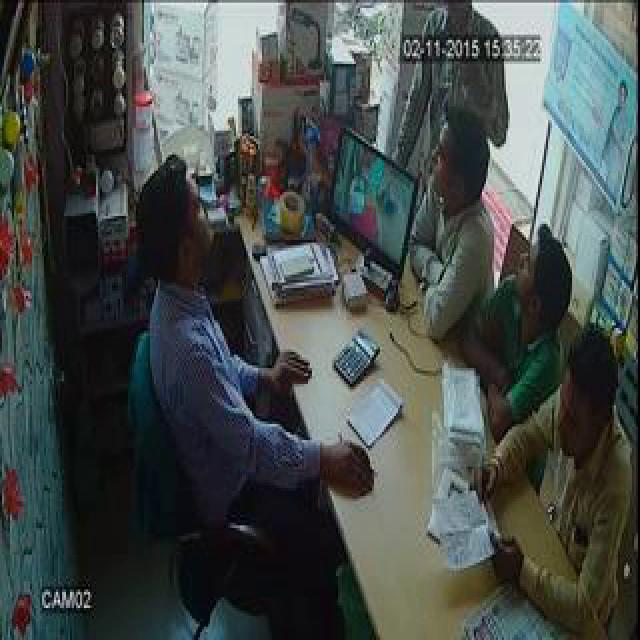shoplifting: (338, 3, 538, 351)
